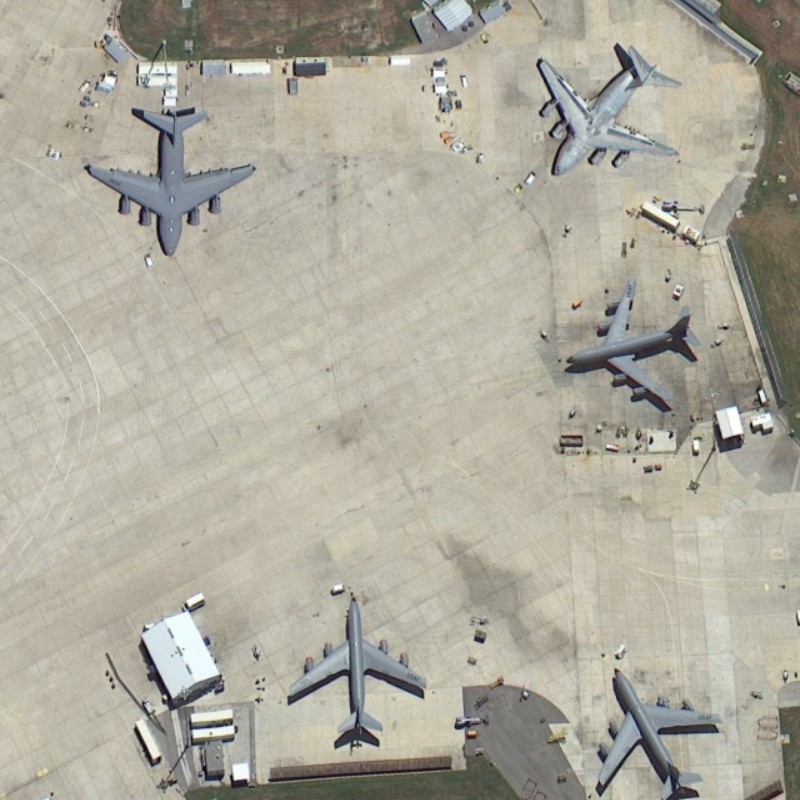A14: (281, 588, 432, 740), (560, 274, 706, 411), (588, 661, 730, 800)
A3: (78, 100, 262, 262), (532, 33, 692, 183)
